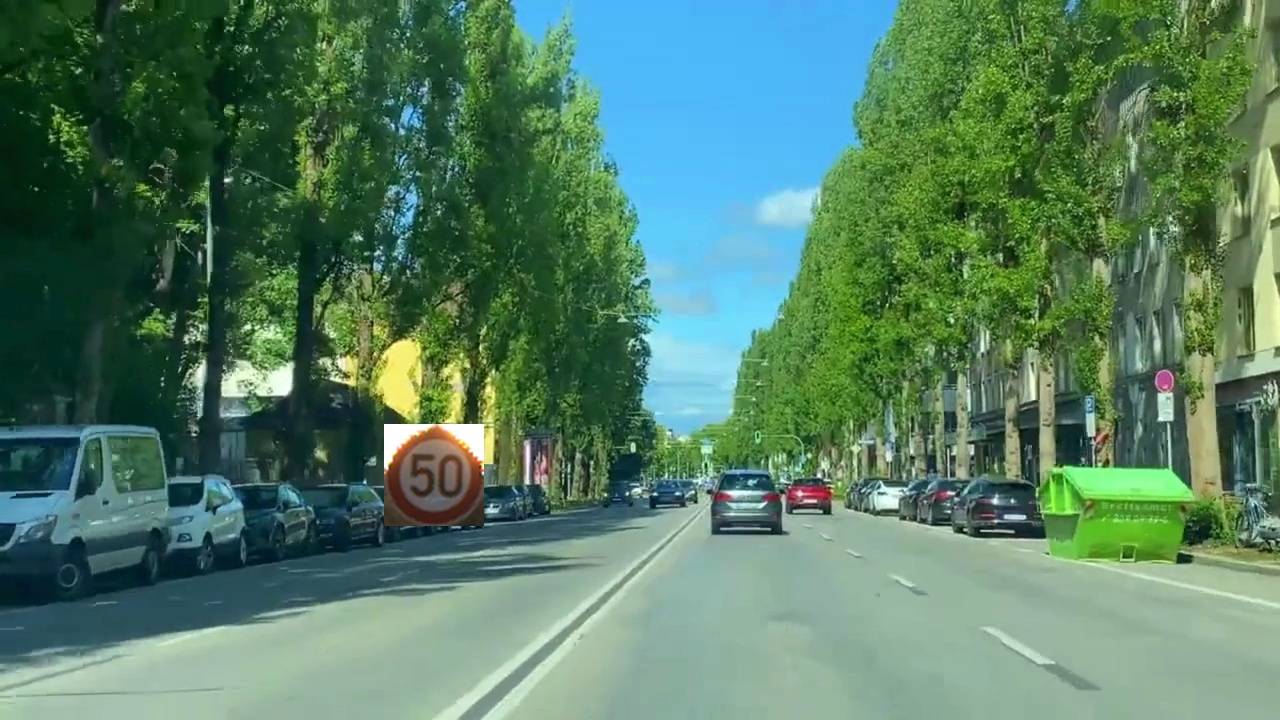Speed 50: (384, 424, 484, 526)
